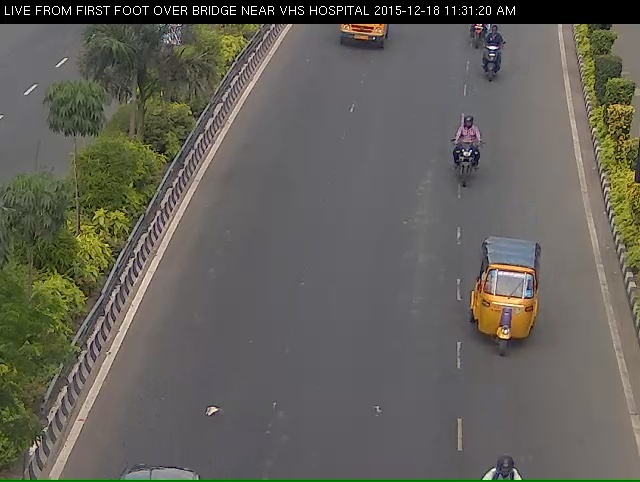Auto: (467, 241, 553, 371), (331, 21, 391, 60)
Person: (445, 125, 485, 207), (482, 33, 511, 90)
